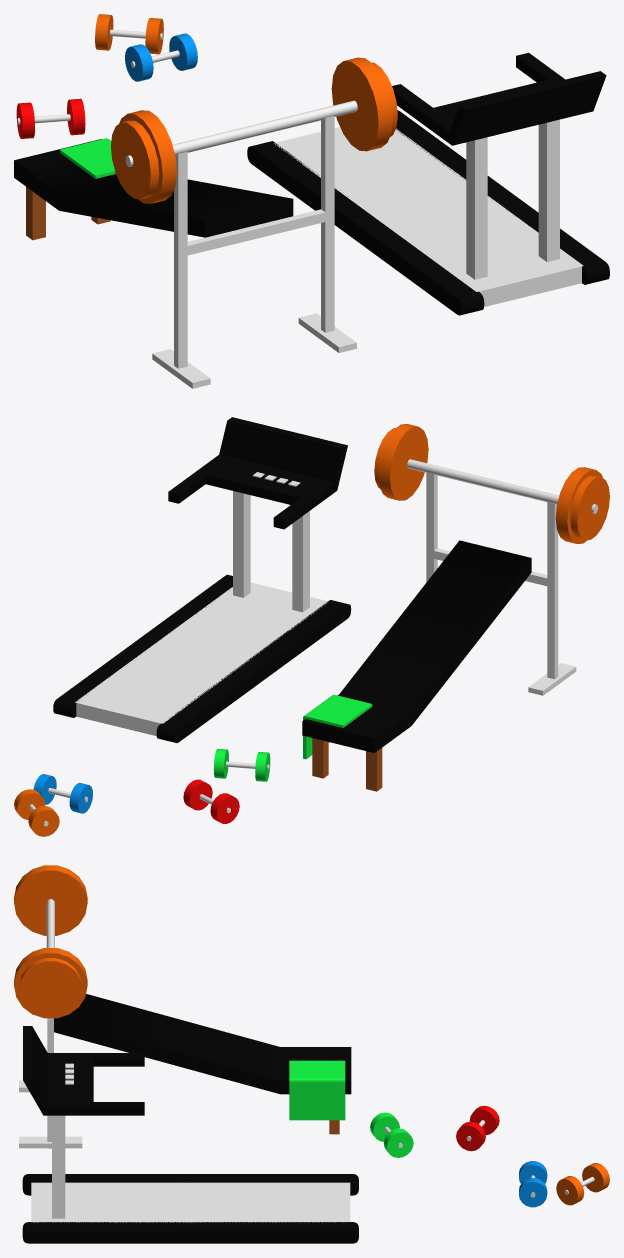
The model's file is Gym.obj.
3 renders of one model, top to bottom at view 1: azimuth 30°, elevation 25°; view 2: azimuth 150°, elevation 25°; view 3: azimuth 270°, elevation 25°, orthographic. The views are drawn at different scales.
Parts seen in each view (by area): view 1: Box010, Box006, Box013, Box015, Cylinder004, Box014, Box012, Box011, Box001, Box002, Cylinder003, Cylinder001 (+12 smaller); view 2: Box006, Box010, Box013, Box015, Box014, Cylinder004, Box002, Cylinder003, Box011, Box012, Cylinder001, Box007 (+10 smaller); view 3: Box010, Box006, Box014, Box013, Cylinder002, Box007, Box015, Cylinder005, Box011, Cylinder004, Cylinder006, Cylinder017 (+6 smaller).
Part boxes in pixels (<box>): Box010: <box>274,127,583,306</box>; Box006: <box>14,139,293,237</box>; Box013: <box>392,52,606,145</box>; Box015: <box>247,141,484,315</box>; Cylinder004: <box>331,57,392,151</box>; Box014: <box>395,110,609,284</box>; Box012: <box>466,137,487,279</box>; Box011: <box>538,119,559,261</box>; Box001: <box>321,116,334,332</box>; Box002: <box>174,151,187,368</box>; Cylinder003: <box>111,120,159,199</box>; Cylinder001: <box>125,100,357,167</box>; Box006: <box>302,540,531,752</box>; Box010: <box>75,582,327,735</box>; Box013: <box>168,417,347,529</box>; Box015: <box>156,600,351,742</box>; Box014: <box>53,574,232,717</box>; Cylinder004: <box>378,424,428,500</box>; Box002: <box>547,502,558,679</box>; Cylinder003: <box>570,475,609,540</box>; Box011: <box>233,491,250,597</box>; Box012: <box>292,511,309,612</box>; Cylinder001: <box>407,459,597,513</box>; Box007: <box>303,694,372,759</box>; Box010: <box>31,1182,350,1222</box>; Box006: <box>54,994,351,1094</box>; Box014: <box>22,1222,358,1243</box>; Box013: <box>23,1026,144,1115</box>; Cylinder002: <box>14,865,87,935</box>; Box007: <box>289,1060,345,1120</box>; Box015: <box>22,1174,358,1195</box>; Cylinder005: <box>19,958,82,1016</box>; Box011: <box>52,1115,65,1218</box>; Cylinder004: <box>14,948,87,1018</box>; Cylinder006: <box>519,1178,547,1207</box>; Cylinder017: <box>456,1121,485,1151</box>.
Size of the model in its own units: 162637 by 90597 by 230790.
